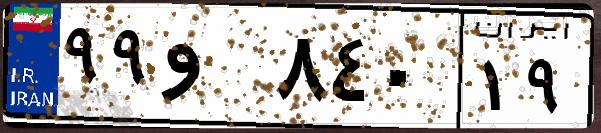0: (385, 28, 445, 110)
1: (475, 38, 525, 113)
4: (330, 28, 385, 110)
8: (270, 28, 330, 110)
9: (57, 26, 110, 100), (525, 38, 570, 115), (110, 28, 158, 98)
و: (158, 20, 270, 120)
